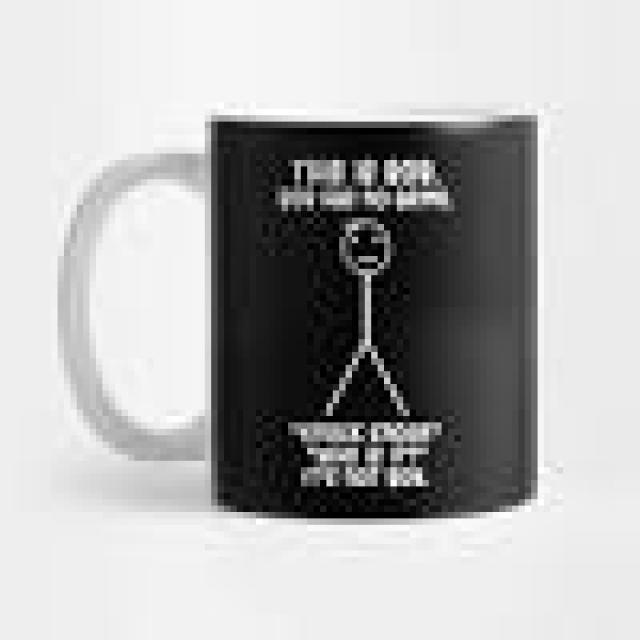taza: (32, 90, 550, 544)
